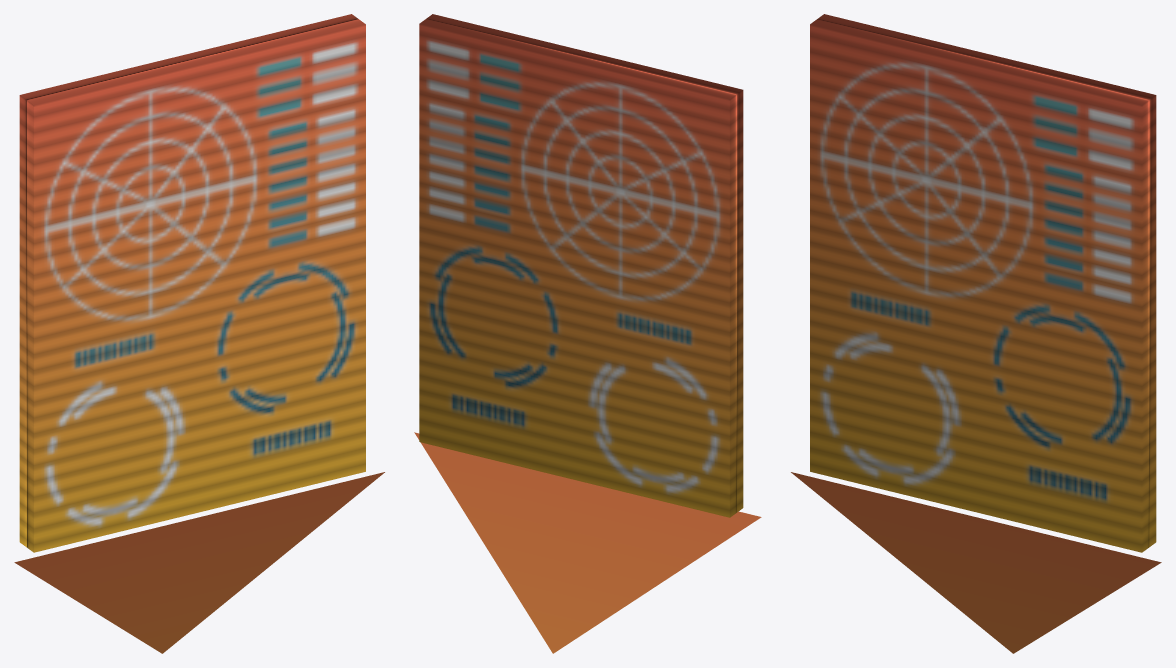
The model's file is Armchair_006_Display_01.fbx.
3 views of the same model, side by side, from view 1: azimuth 30°, elevation 25°; view 2: azimuth 150°, elevation 25°; view 3: azimuth 330°, elevation 25° (orthographic). The views are drawn at different scales.
Visible parts, largest first — view 1: Armchair_006_Display_01; view 2: Armchair_006_Display_01; view 3: Armchair_006_Display_01.
Part boxes in pixels (left/top/right/bottom): Armchair_006_Display_01: left=14, top=14, right=384, bottom=653; Armchair_006_Display_01: left=414, top=14, right=761, bottom=653; Armchair_006_Display_01: left=791, top=14, right=1161, bottom=653.
Size of the model in its own units: 18.44 by 3.22 by 29.22.
